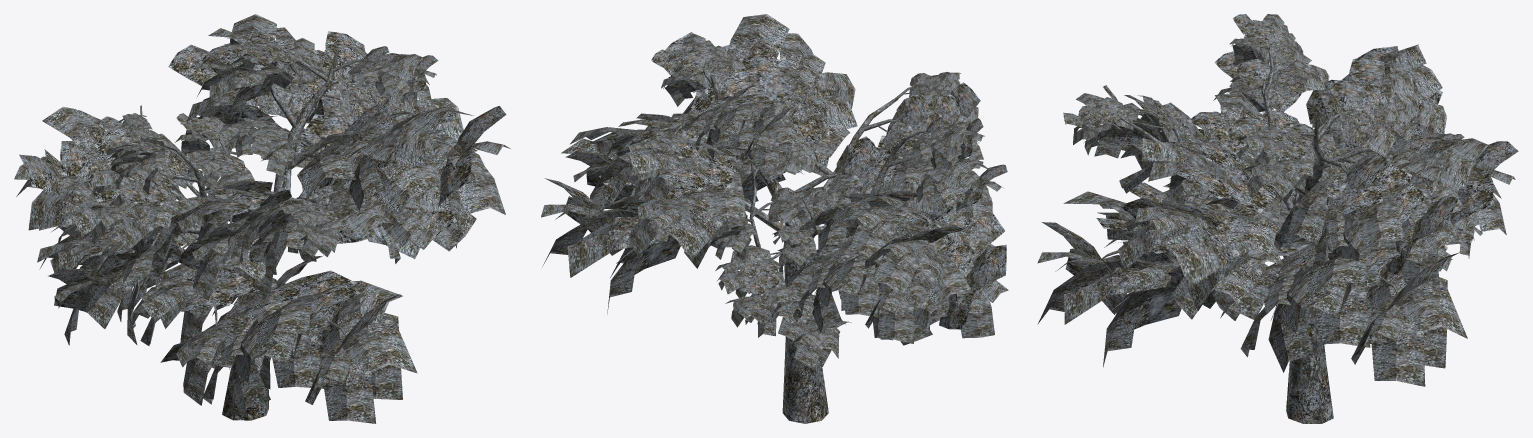
Rendered from tree5.fbx.
3 views of the same model, side by side, from view 1: azimuth 30°, elevation 25°; view 2: azimuth 150°, elevation 25°; view 3: azimuth 270°, elevation 25° (orthographic). The views are drawn at different scales.
Parts seen in each view (by area): view 1: tree oak joined; view 2: tree oak joined; view 3: tree oak joined.
Part boxes in pixels (left/top/right/bottom): tree oak joined: left=14, top=14, right=510, bottom=423; tree oak joined: left=541, top=14, right=1008, bottom=423; tree oak joined: left=1037, top=14, right=1518, bottom=423.
Bounding box in the file's own units: 570 × 435 × 536.
2 materials, 2 textured.
